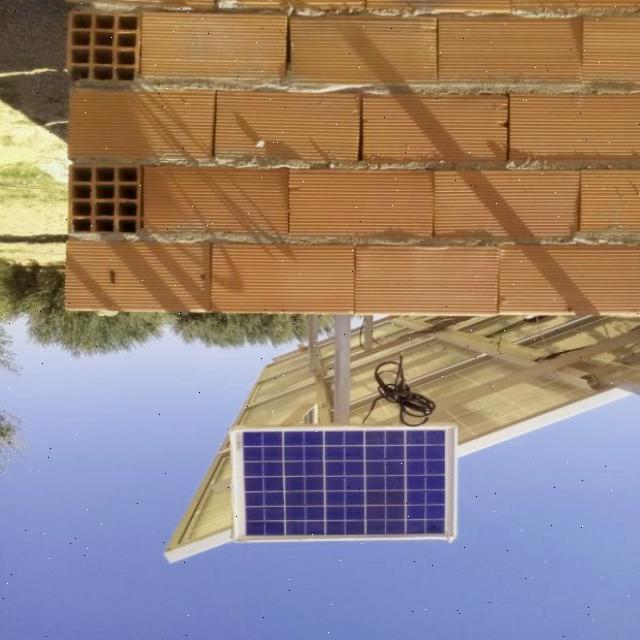Normal Solar Panel: (231, 425, 455, 541)
